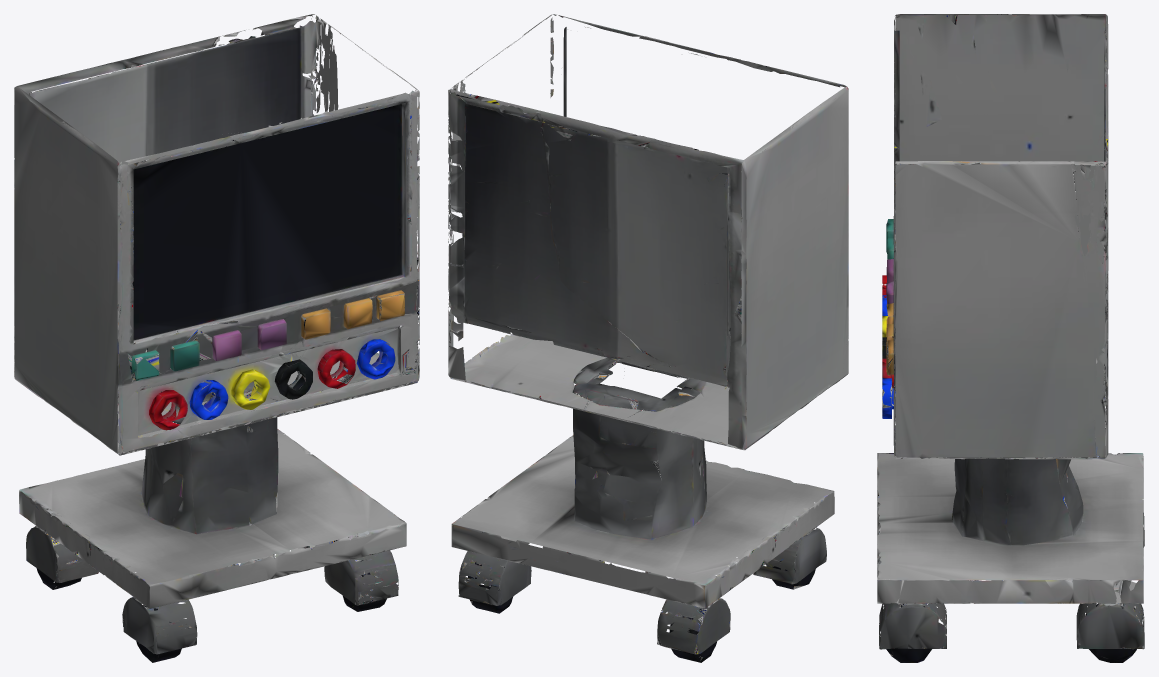
File: ecg-cart.glb
3 renders of one model, left to right at view 1: azimuth 30°, elevation 25°; view 2: azimuth 150°, elevation 25°; view 3: azimuth 270°, elevation 25°, orthographic. The views are drawn at different scales.
Parts seen in each view (by area): view 1: world; view 2: world; view 3: world.
Part boxes in pixels (left/top/right/bottom): world: left=14, top=14, right=419, bottom=662; world: left=448, top=14, right=848, bottom=662; world: left=877, top=14, right=1144, bottom=662.
Size of the model in its own units: 0.6178 by 1 by 0.4666.
1 material, 1 textured.
